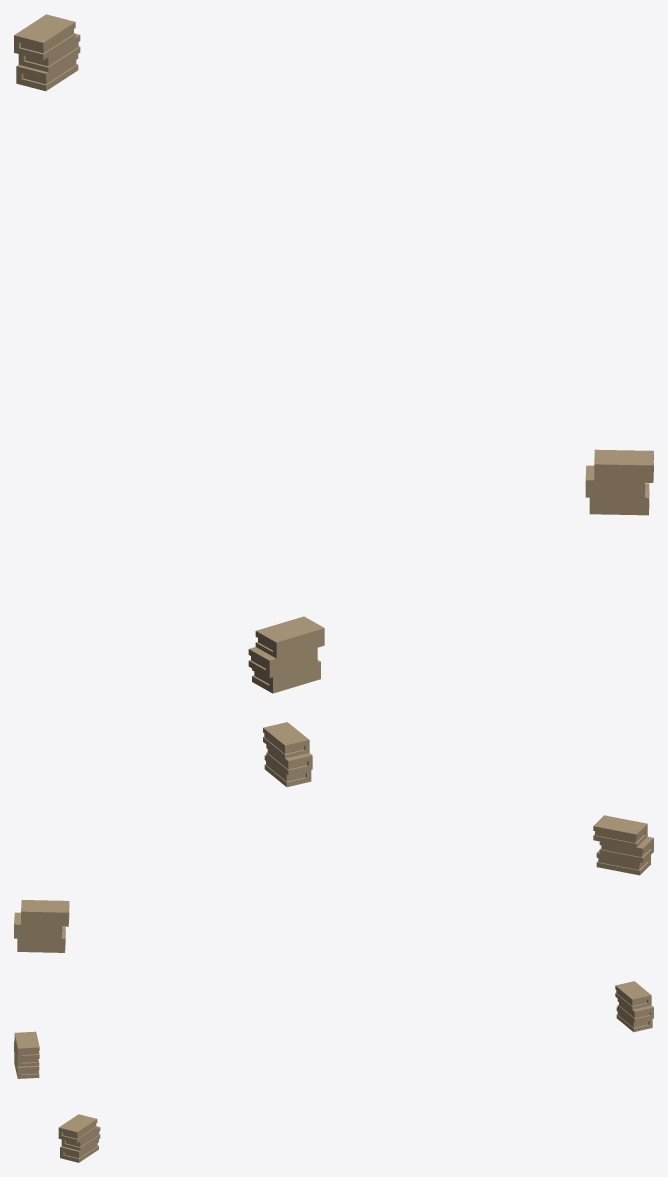
File: book.fbx
3 renders of one model, top to bottom at view 1: azimuth 30°, elevation 25°; view 2: azimuth 150°, elevation 25°; view 3: azimuth 270°, elevation 25°, orthographic. The views are drawn at different scales.
Visible parts, largest first — view 1: book.002, book.001, book.004; view 2: book.002, book.004, book.001; view 3: book.001, book.004, book.002.
Part boxes in pixels (x1,y1,x2,y2): book.002: (248, 616, 324, 693); book.001: (585, 449, 653, 515); book.004: (14, 14, 80, 91); book.002: (593, 815, 653, 875); book.004: (14, 900, 69, 952); book.001: (263, 722, 312, 787); book.001: (58, 1114, 100, 1162); book.004: (615, 981, 653, 1032); book.002: (14, 1031, 39, 1078).
Size of the model in its own units: 2929 by 1551 by 5857.
